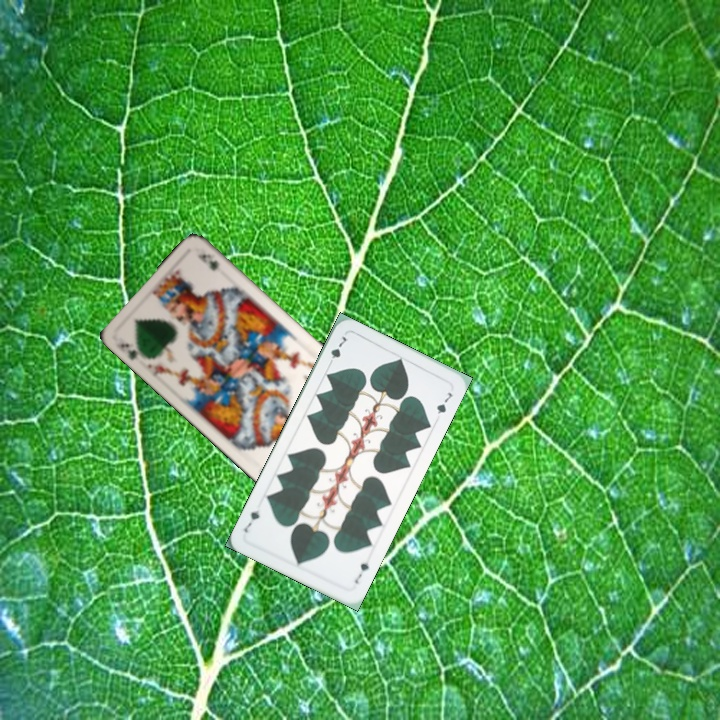G7: (324, 332, 350, 369), (350, 558, 371, 586)
GK: (116, 339, 150, 363)
